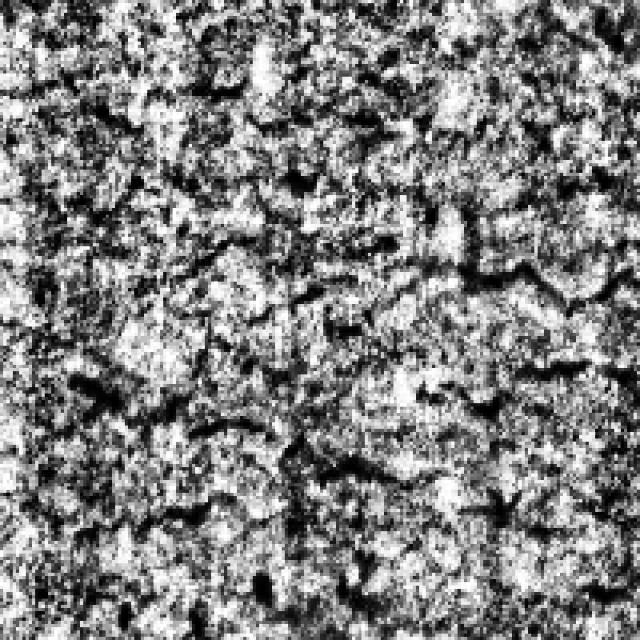Pitted_Surface: (44, 9, 634, 323), (0, 358, 634, 560)
